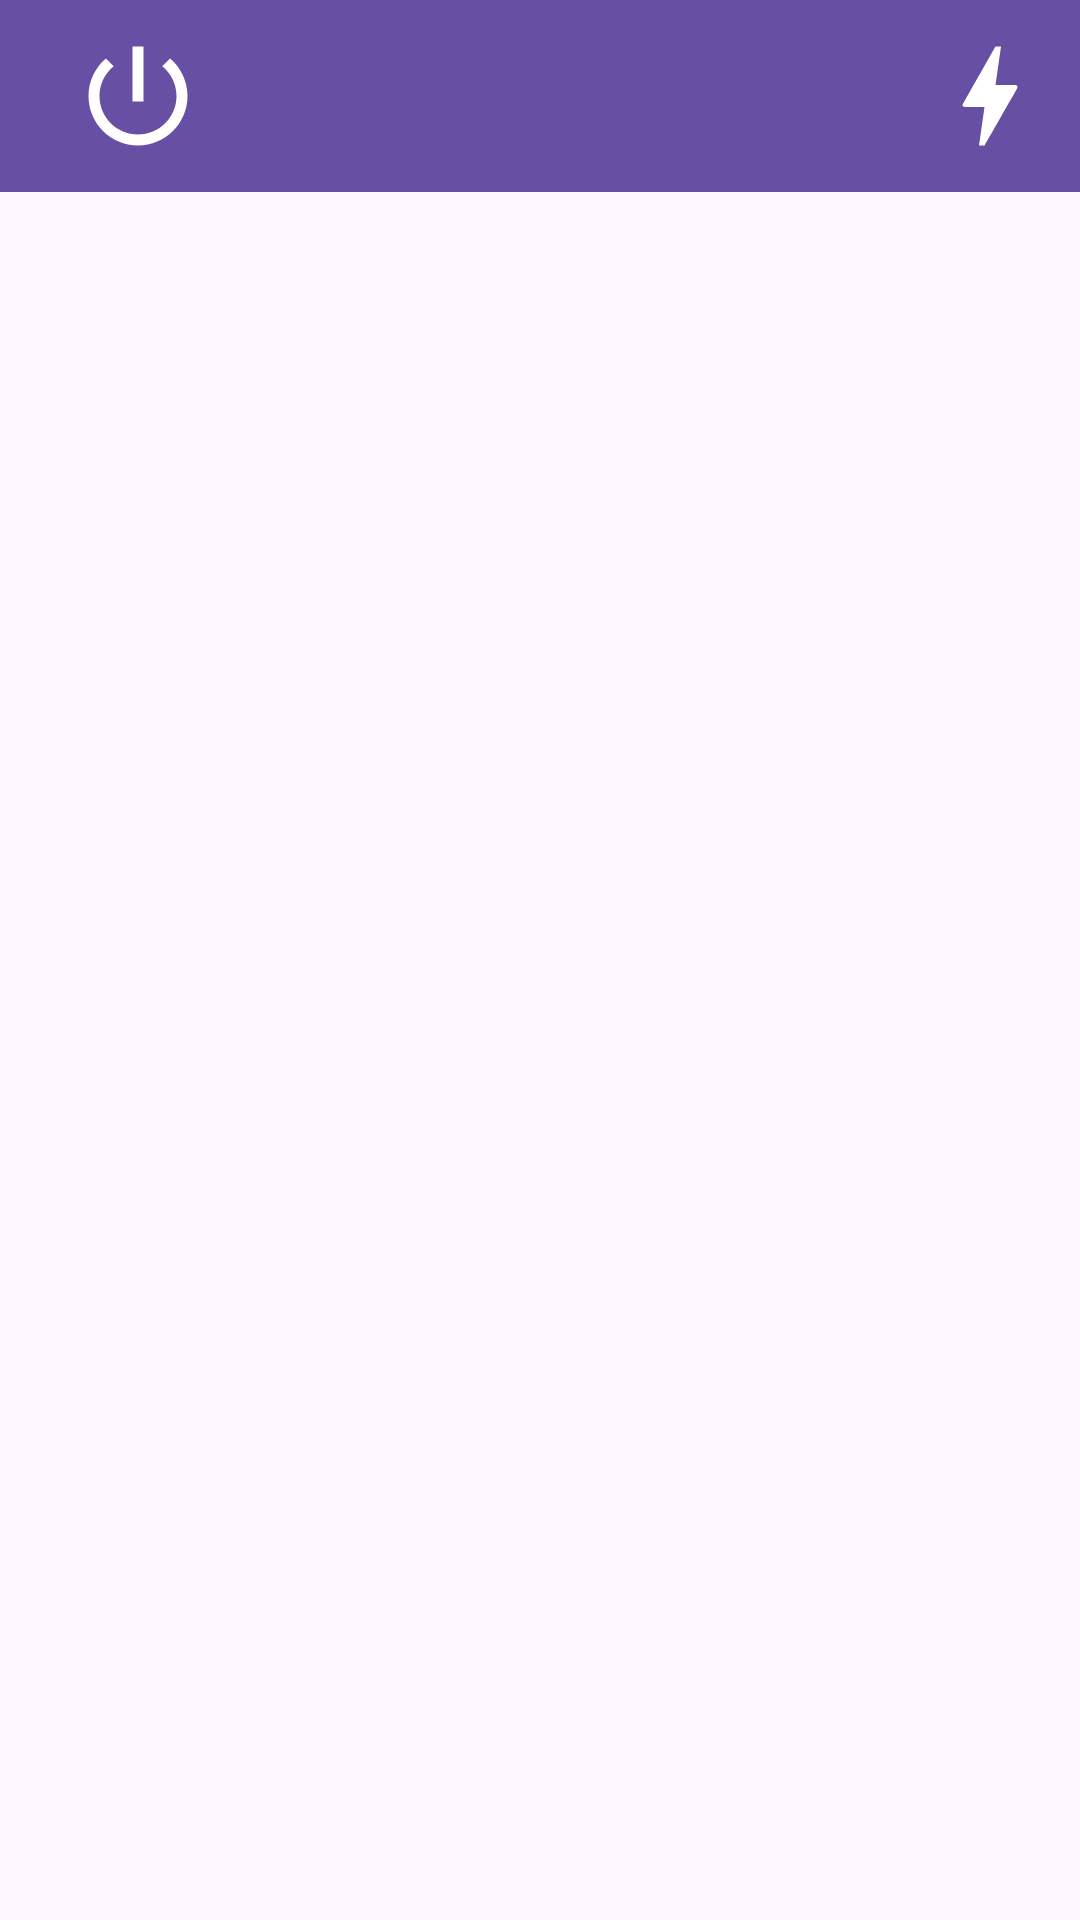

Where to tap for icons on this 1080px x 1920px app screen, as (x,y):
bolt: (990,96)
power settings: (138,96)
